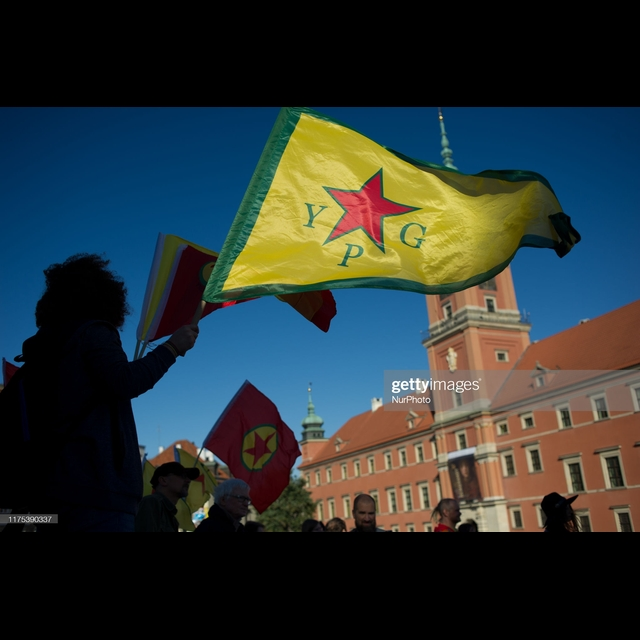PKK: (237, 423, 281, 471)
YPG: (292, 163, 436, 268)
